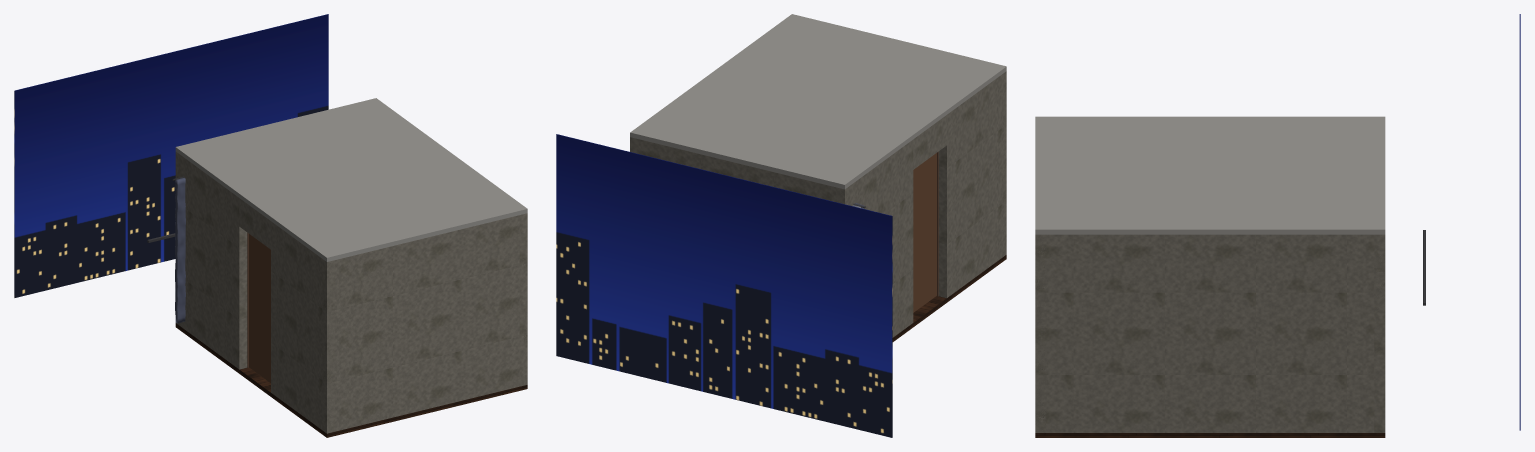
File: room_night.glb
3 renders of one model, left to right at view 1: azimuth 30°, elevation 25°; view 2: azimuth 150°, elevation 25°; view 3: azimuth 270°, elevation 25°, orthographic. The views are drawn at different scales.
Parts seen in each view (by area): view 1: outside_city, wall_s, ceiling, wall_w_south, wall_w_north, door_leaf, floor, curtain_l, wall_e, wall_w_over_door; view 2: outside_city, ceiling, wall_w_south, wall_w_north, door_leaf, wall_n_high, wall_w_over_door, wall_s, floor; view 3: wall_e, ceiling, wall_s, floor, wall_n_right, wall_n_low, outside_city.
Part boxes in pixels (bbox=[...]): outside_city: bbox=[14, 14, 328, 297]; wall_s: bbox=[322, 214, 527, 432]; ceiling: bbox=[175, 98, 527, 261]; wall_w_south: bbox=[271, 221, 335, 433]; wall_w_north: bbox=[180, 155, 247, 369]; door_leaf: bbox=[248, 234, 270, 383]; floor: bbox=[175, 323, 527, 437]; curtain_l: bbox=[175, 178, 185, 323]; wall_e: bbox=[519, 213, 527, 386]; wall_w_over_door: bbox=[239, 198, 270, 249]; outside_city: bbox=[556, 134, 892, 437]; ceiling: bbox=[630, 14, 1006, 189]; wall_w_south: bbox=[938, 71, 1006, 298]; wall_w_north: bbox=[836, 140, 913, 337]; door_leaf: bbox=[913, 153, 936, 312]; wall_n_high: bbox=[630, 137, 849, 205]; wall_w_over_door: bbox=[913, 115, 946, 169]; wall_s: bbox=[1001, 72, 1006, 257]; floor: bbox=[892, 255, 1006, 341]; wall_e: bbox=[1035, 234, 1384, 432]; ceiling: bbox=[1035, 116, 1385, 234]; wall_s: bbox=[1035, 234, 1046, 432]; floor: bbox=[1035, 433, 1385, 437]; wall_n_right: bbox=[1374, 267, 1385, 358]; wall_n_low: bbox=[1374, 358, 1385, 432]; outside_city: bbox=[1519, 14, 1520, 430].
Bounding box in the file's own units: 4.6 × 3.06 × 5.33.
42 materials, 12 textured.
